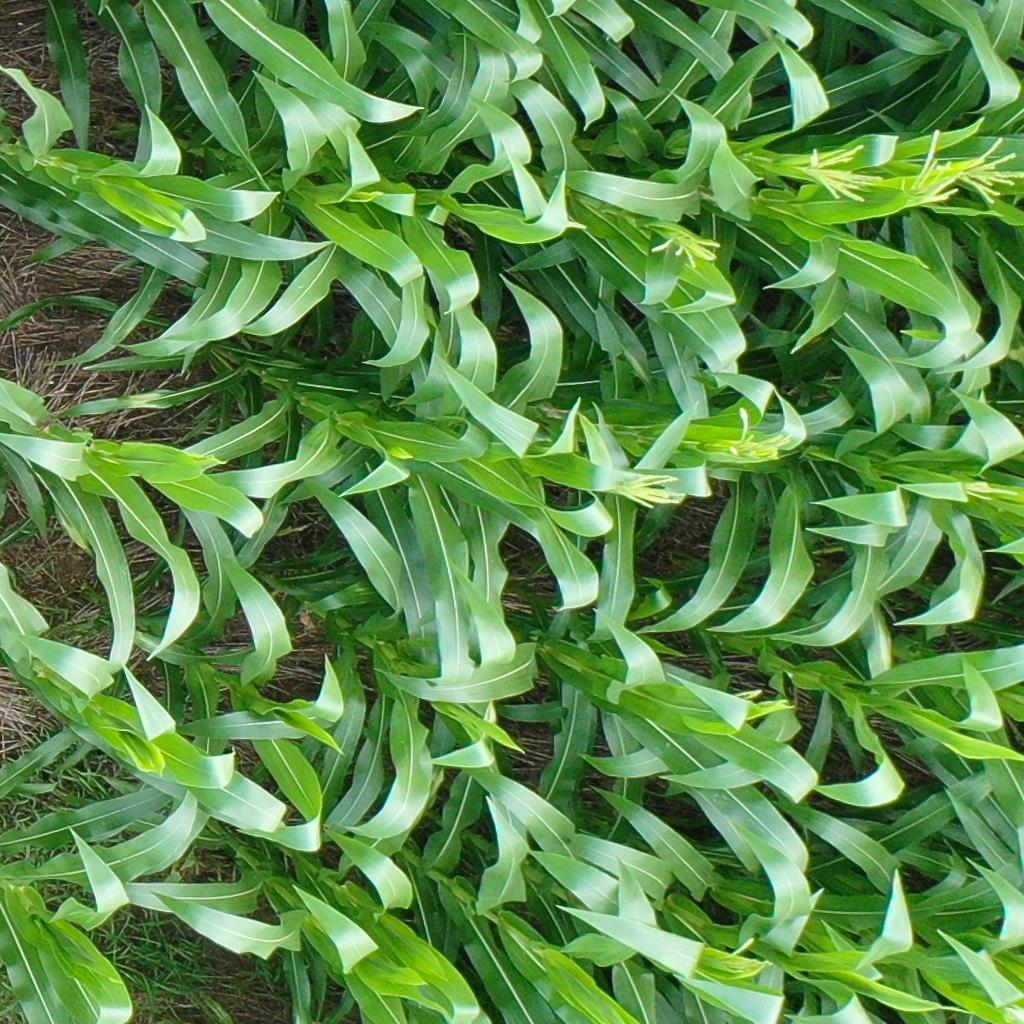Tassel: (955, 130, 1024, 202), (803, 142, 882, 203), (909, 123, 960, 205), (721, 405, 788, 463), (648, 225, 725, 270), (613, 472, 684, 510), (719, 934, 766, 976), (958, 474, 1019, 504)
